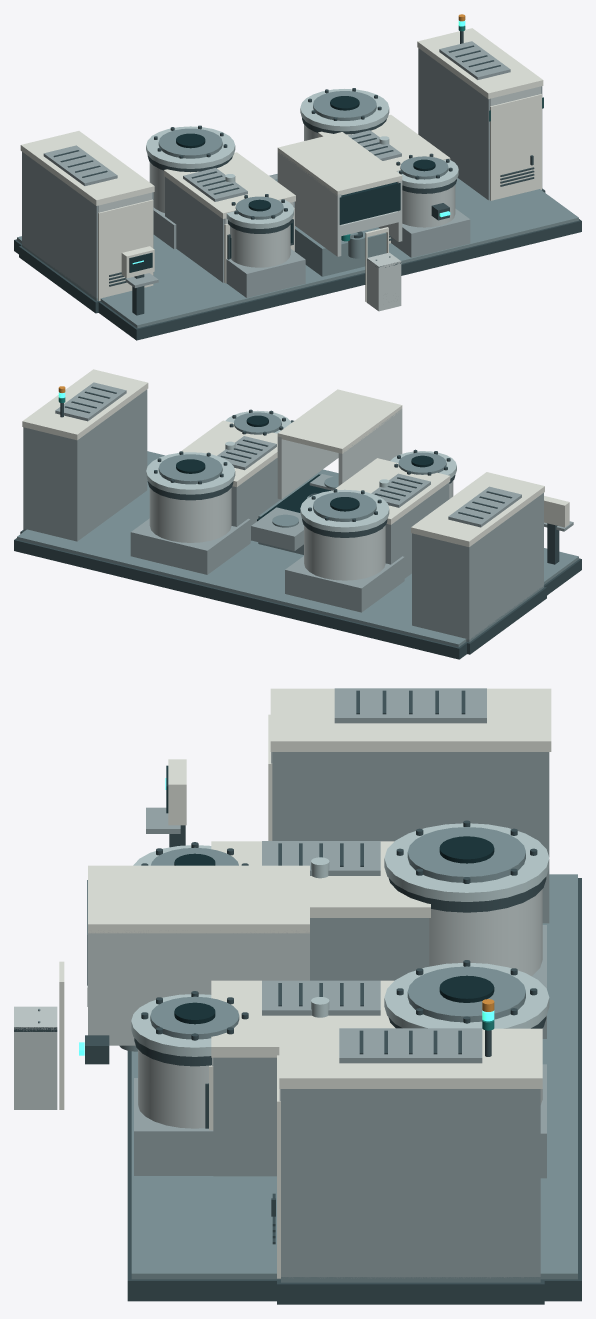
The model's file is etch_strip.glb.
The picture shows the model from 3 angles, top to bottom: view 1: azimuth 30°, elevation 25°; view 2: azimuth 150°, elevation 25°; view 3: azimuth 270°, elevation 25°; orthographic projection. The views are drawn at different scales.
Parts seen in each view (by area): view 1: outer_panels, process_modules, port; view 2: outer_panels, process_modules; view 3: outer_panels, process_modules, port.
Boxes of the visible parts, x1,y1,x2,y2 form: outer_panels: (19, 14, 545, 313); process_modules: (14, 174, 581, 340); port: (365, 227, 401, 311); outer_panels: (20, 369, 546, 654); process_modules: (14, 420, 581, 659); outer_panels: (87, 688, 551, 1304); process_modules: (85, 759, 581, 1301); port: (14, 961, 64, 1109).
Bounding box in the file's own units: 9.5 × 3.02 × 5.58.
12 materials, 1 textured.
